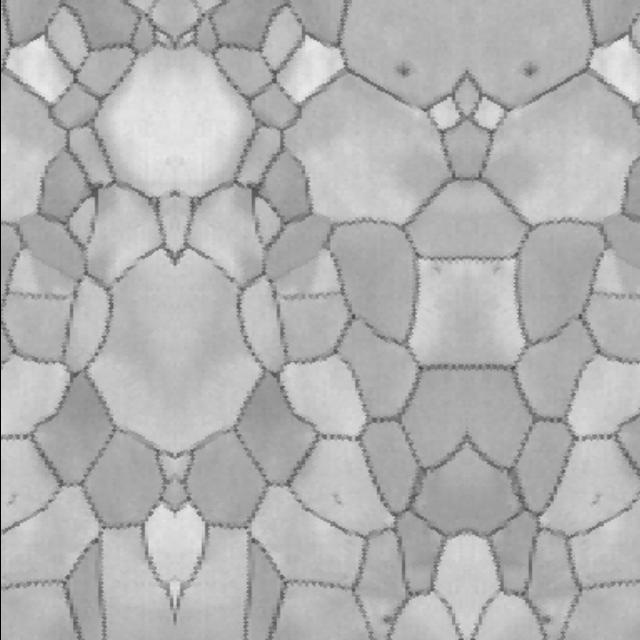good_void: (319, 478, 353, 512), (578, 479, 611, 512), (0, 479, 26, 512), (396, 60, 417, 81), (513, 60, 534, 81), (537, 613, 554, 630), (377, 613, 393, 629)
